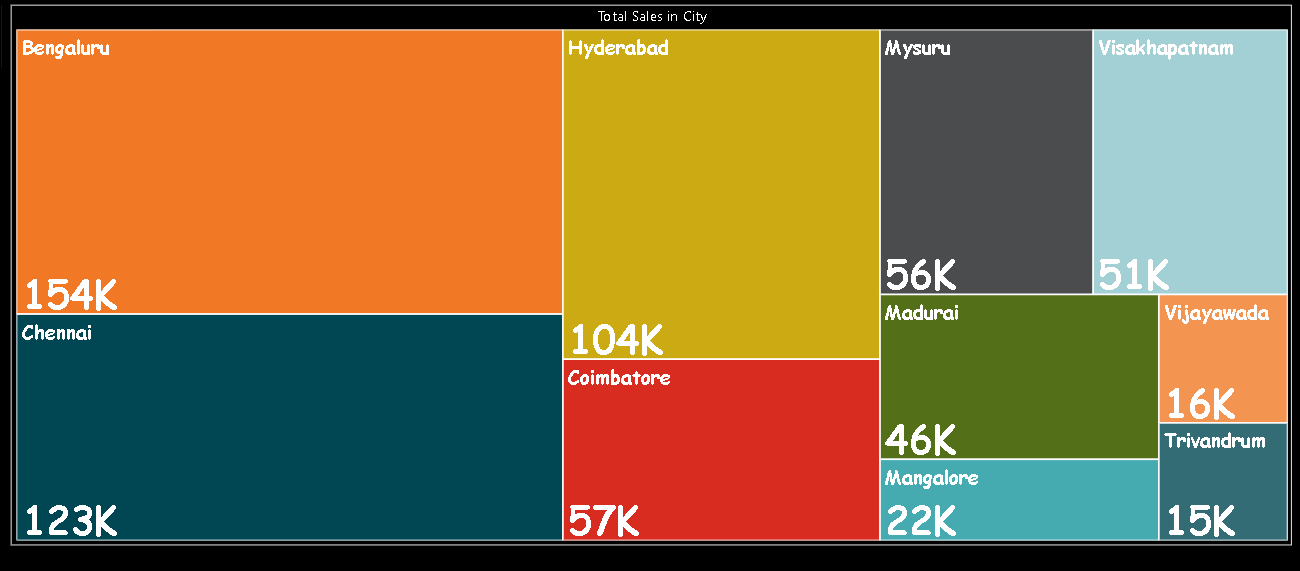

The page's visual inventory and layout, read from the dashboard file:
{"tool":"powerbi","page":{"name":"Stores","canvas":[1280,720],"ordinal":4},"visuals":[{"type":"treemap","title":"Total Sales in City","fields":{"Group":["dim_stores.city"],"Values":["Key Measures.Total sales"]},"box":[17.5,22.5,1236.2,521.2],"z":5000}]}

Visuals, with their boxes on the page's 1280x720 design canvas (x1, y1, x2, y2). These are canvas units, not pixel positions in the 1300x571 screenshot, which may show the page scaled, cropped or inside an application window:
"Total Sales in City" treemap: (x1=18, y1=22, x2=1254, y2=544)
